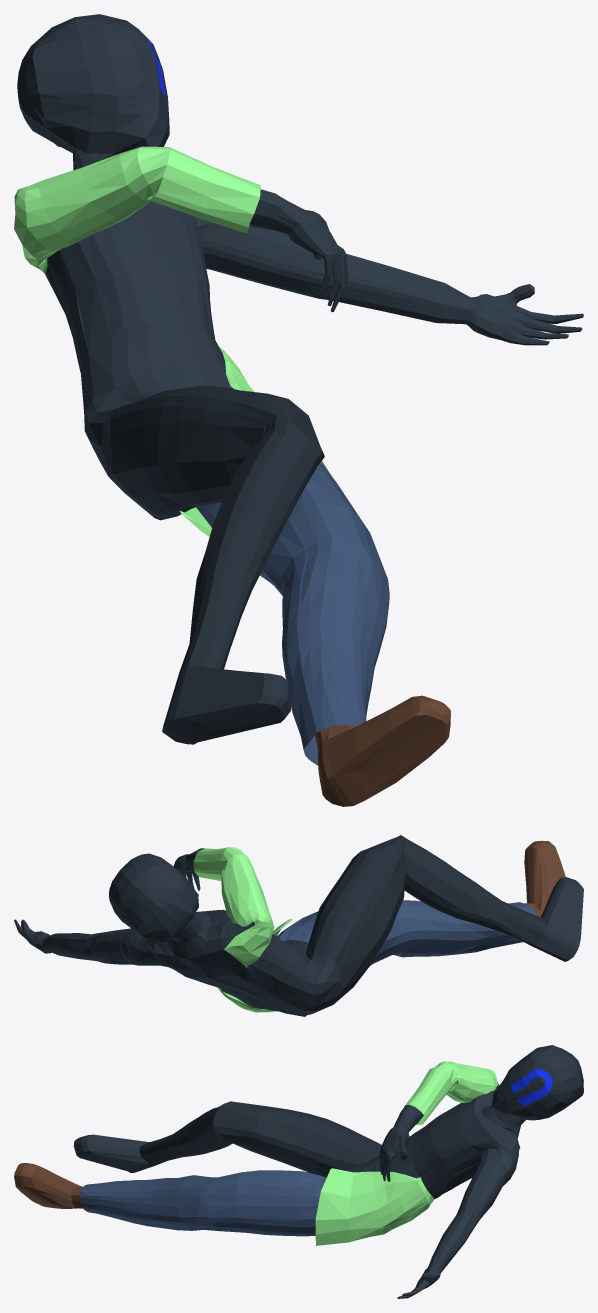
File: Mar_Die_000013.obj
3 renders of one model, top to bottom at view 1: azimuth 30°, elevation 25°; view 2: azimuth 150°, elevation 25°; view 3: azimuth 270°, elevation 25°, orthographic. The views are drawn at different scales.
Visible parts, largest first — view 1: Cube.000_Cube.001; view 2: Cube.000_Cube.001; view 3: Cube.000_Cube.001.
Boxes of the visible parts, x1,y1,x2,y2 form: Cube.000_Cube.001: [14, 14, 583, 806]; Cube.000_Cube.001: [14, 835, 583, 1016]; Cube.000_Cube.001: [14, 1045, 583, 1298].
Size of the model in its own units: 2.63 by 1.49 by 3.6.
